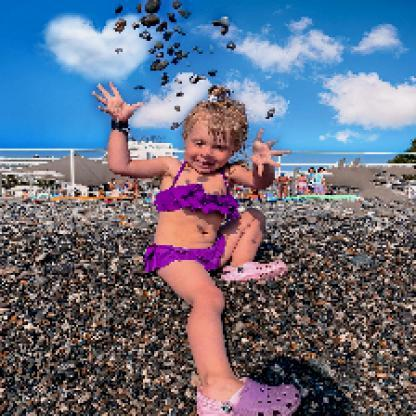child: (90, 79, 304, 415)
